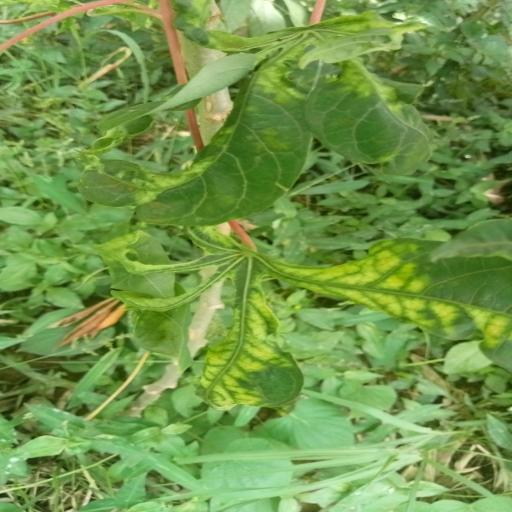Cassava_Mosaic: (88, 12, 448, 230), (92, 235, 512, 414)
